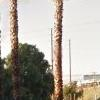Palm tree: (5, 6, 27, 93)
